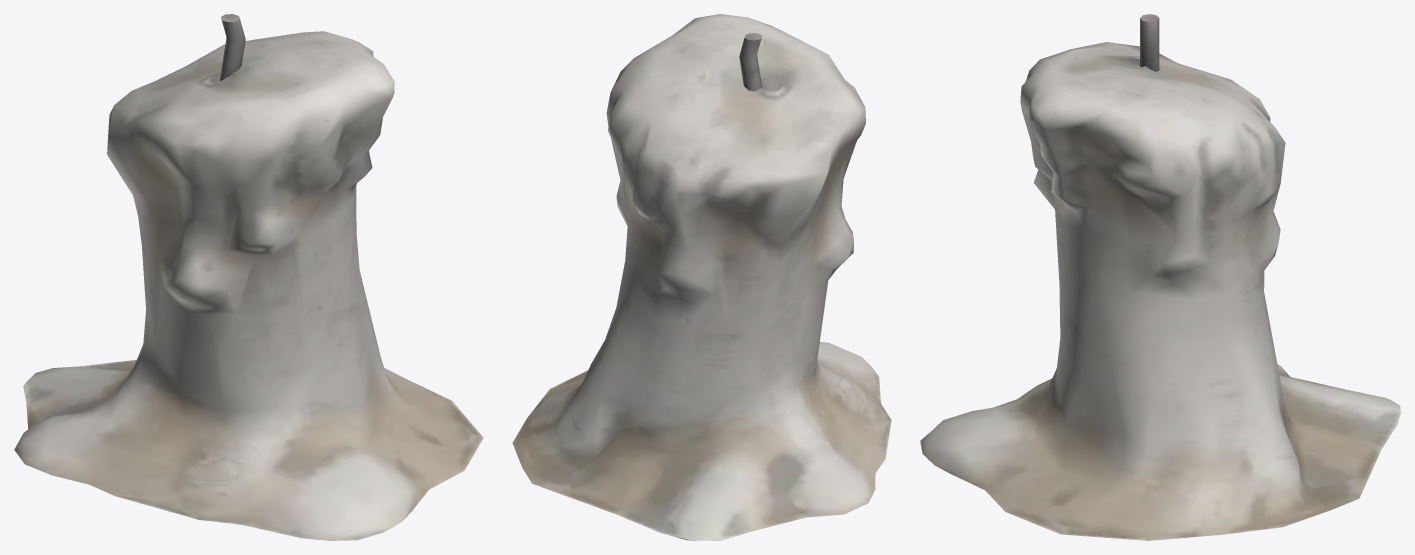
The picture shows the model from 3 angles, left to right: view 1: azimuth 30°, elevation 25°; view 2: azimuth 150°, elevation 25°; view 3: azimuth 270°, elevation 25°; orthographic projection. The views are drawn at different scales.
Parts seen in each view (by area): view 1: SM_Candle_01_v3_LOD0; view 2: SM_Candle_01_v3_LOD0; view 3: SM_Candle_01_v3_LOD0.
Part boxes in pixels (x1,y1,x2,y2): SM_Candle_01_v3_LOD0: (14, 14, 483, 540); SM_Candle_01_v3_LOD0: (512, 14, 891, 540); SM_Candle_01_v3_LOD0: (920, 14, 1400, 540).
Bounding box in the file's own units: 0.1587 × 0.1713 × 0.178.
Materials: 1 (1 with a texture image).
